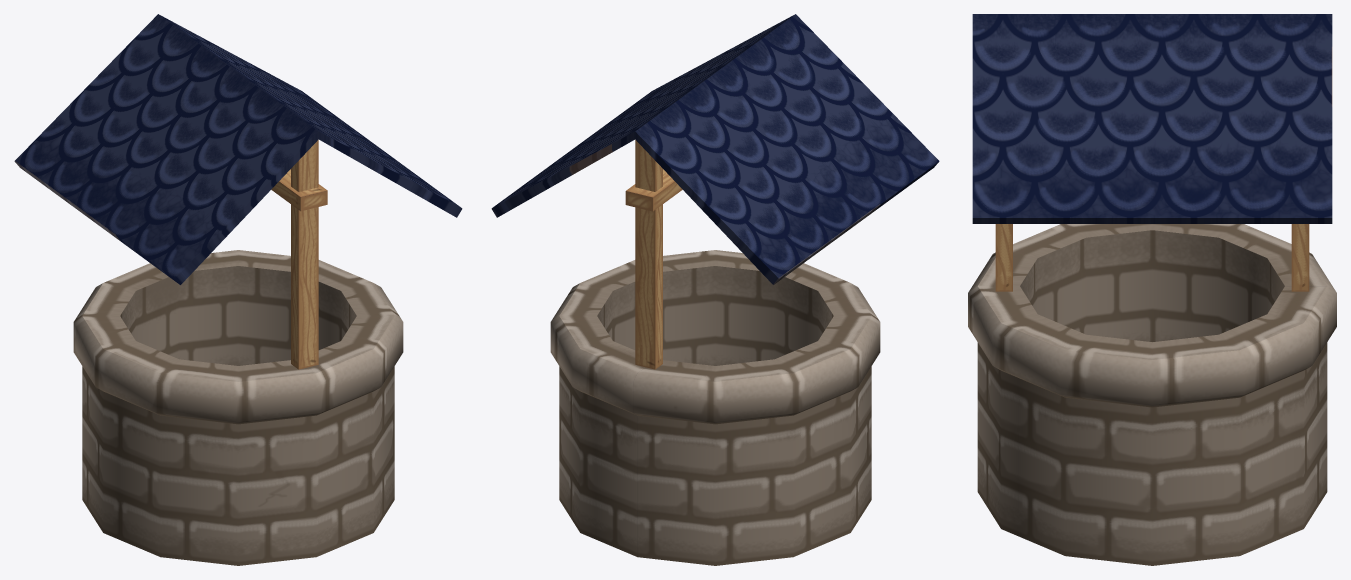
Rendered from _Plank_002.fbx.
The picture shows the model from 3 angles, left to right: view 1: azimuth 30°, elevation 25°; view 2: azimuth 150°, elevation 25°; view 3: azimuth 270°, elevation 25°; orthographic projection. The views are drawn at different scales.
Parts seen in each view (by area): view 1: _Plank_002; view 2: _Plank_002; view 3: _Plank_002.
Boxes of the visible parts, <box> form: _Plank_002: <box>14,14,462,565</box>; _Plank_002: <box>491,14,939,565</box>; _Plank_002: <box>968,14,1336,565</box>.
Size of the model in its own units: 2.11 by 2.13 by 3.02.
Materials: 1 (1 with a texture image).
